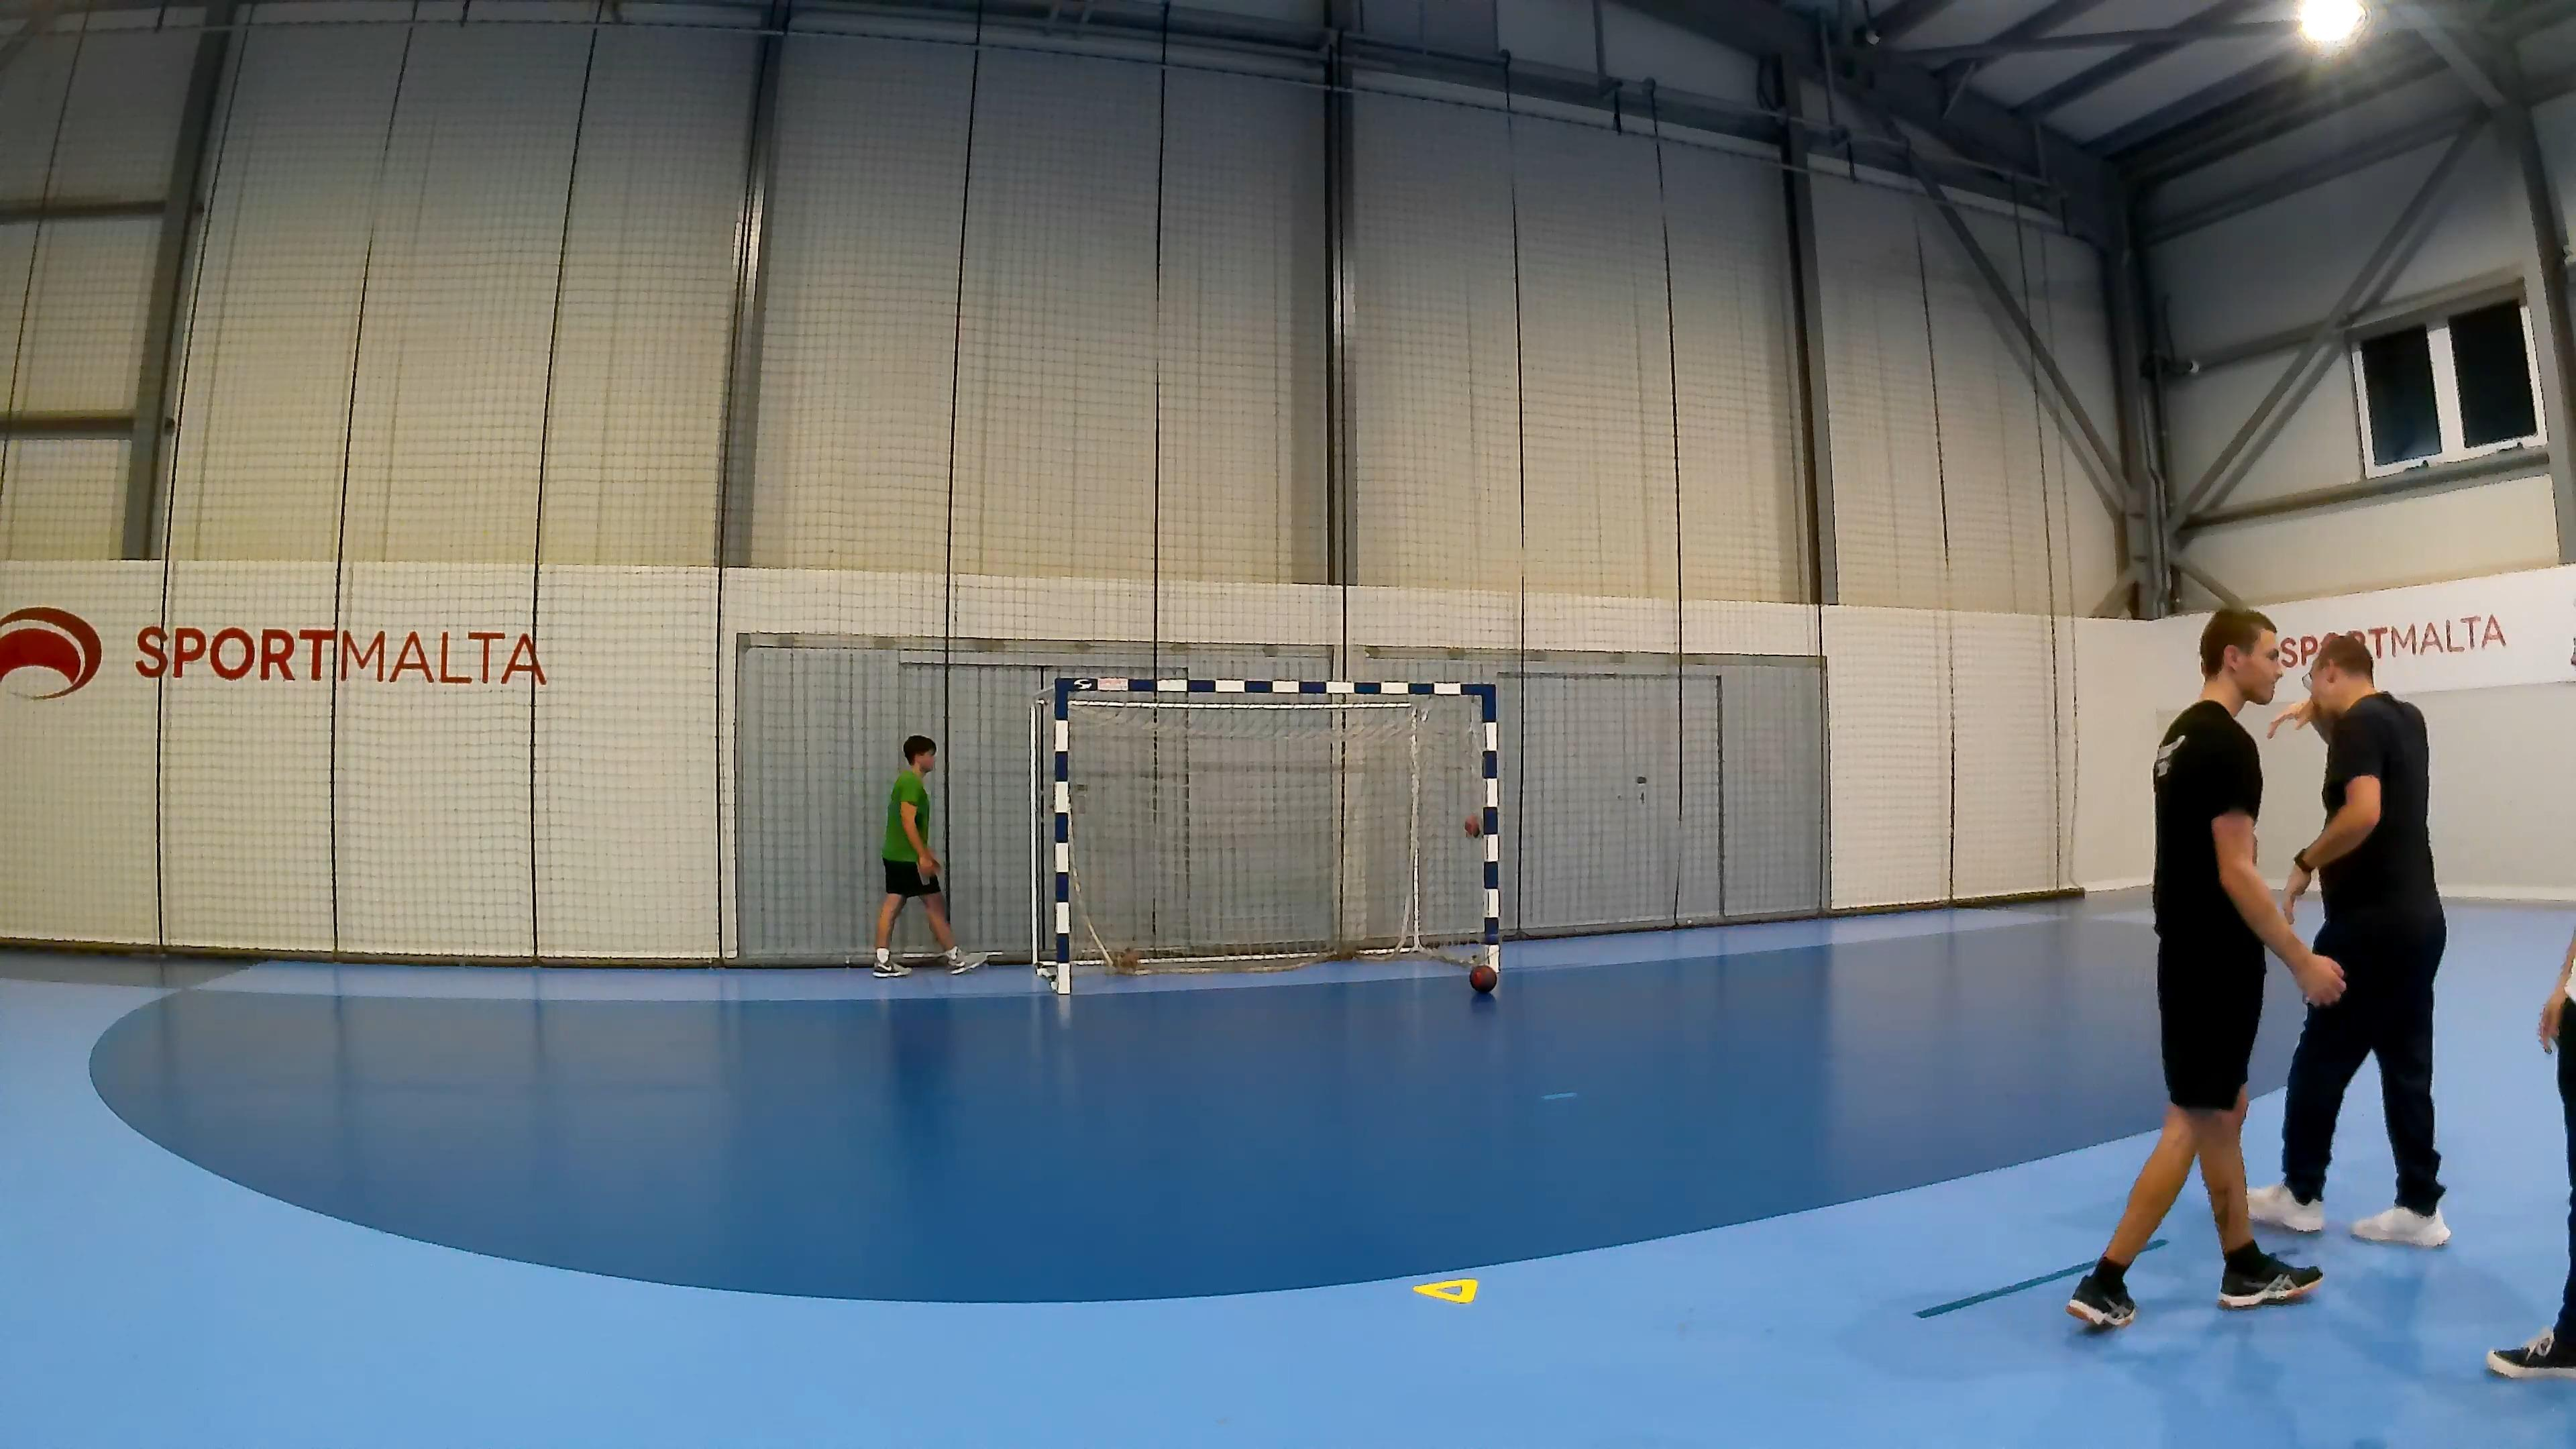handball: (1468, 961, 1497, 991)
